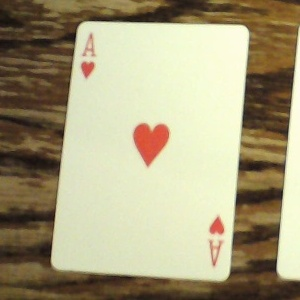card: (50, 18, 249, 282)
